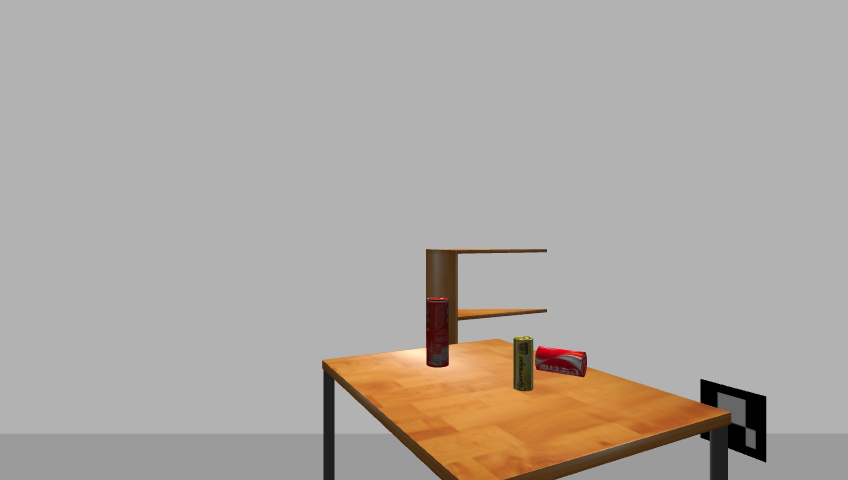aruco marker: (695, 378, 772, 464)
biscuits pack: (513, 336, 535, 393)
bookshelf: (423, 243, 552, 404)
coke can: (533, 346, 590, 379)
dinner table: (315, 340, 741, 479)
pringles can: (424, 297, 451, 369)
